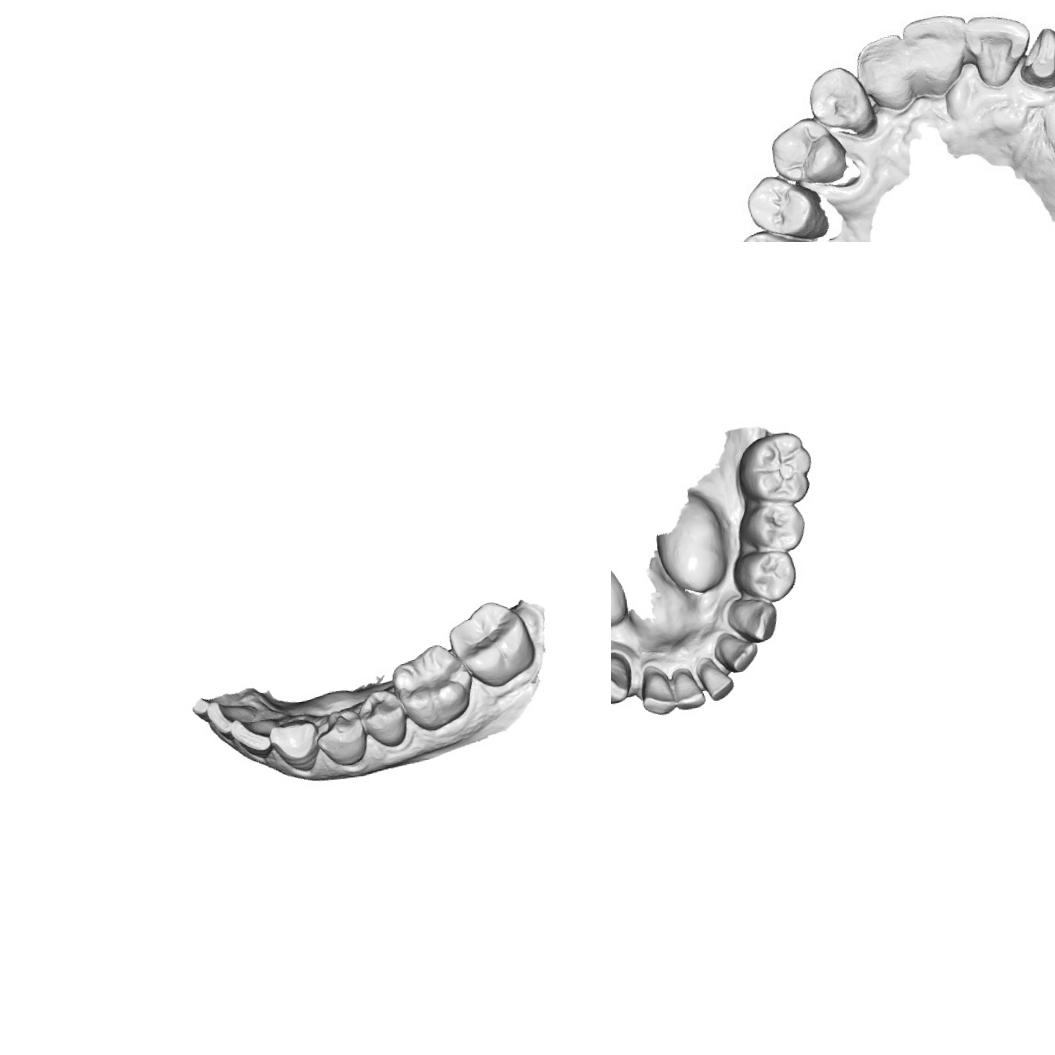canine: (804, 64, 877, 144), (267, 715, 322, 776), (726, 596, 780, 648), (611, 649, 634, 707)
crown: (1013, 23, 1055, 94)
incisor: (904, 9, 979, 100), (856, 31, 923, 124), (968, 12, 1034, 86), (204, 694, 263, 740), (226, 714, 282, 762), (716, 632, 762, 676), (638, 668, 678, 718), (698, 660, 736, 704), (671, 669, 706, 712)
molar: (444, 596, 540, 694), (387, 640, 479, 736), (732, 428, 819, 509)
premolar: (766, 109, 854, 190), (742, 168, 833, 242), (730, 546, 800, 608), (738, 498, 808, 558), (356, 686, 412, 752), (312, 706, 369, 768)
